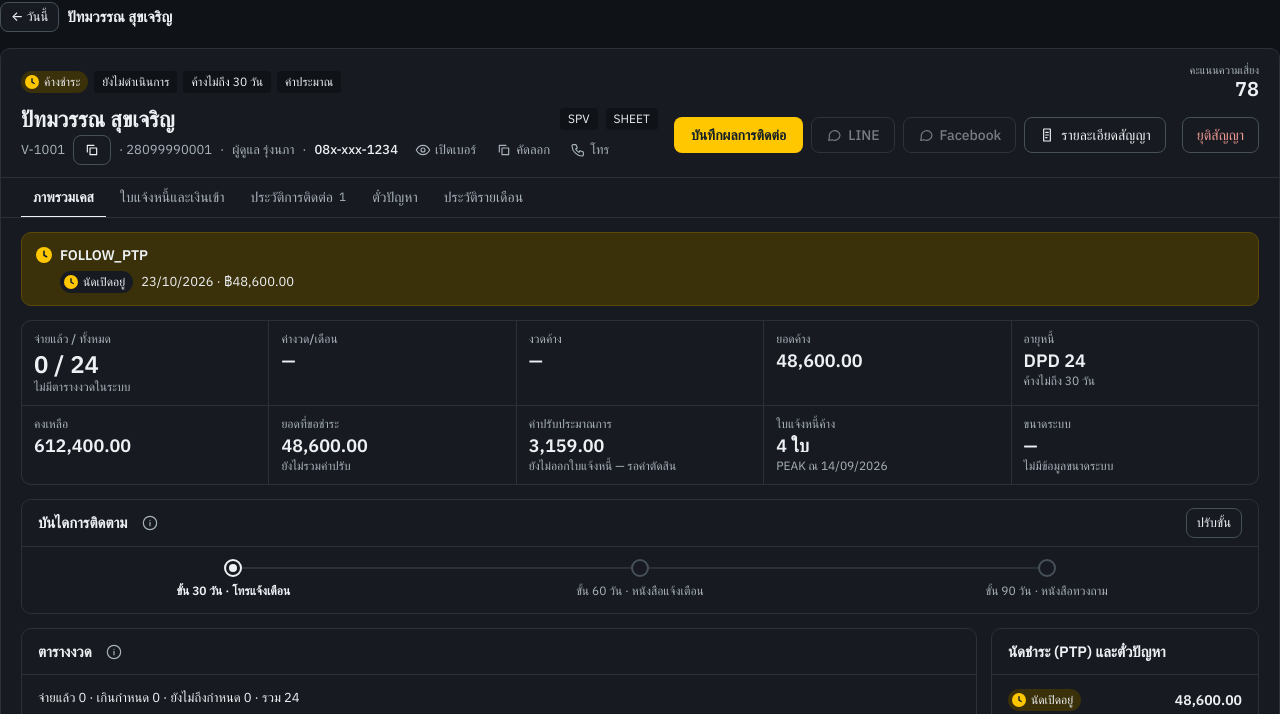
Test: the ladder stage control (F05, Q1) › opens the move drawer for a manager, with the current stage disabled
Click the button "ปรับขั้น" at [1214, 523], box [1186, 508, 1242, 538]
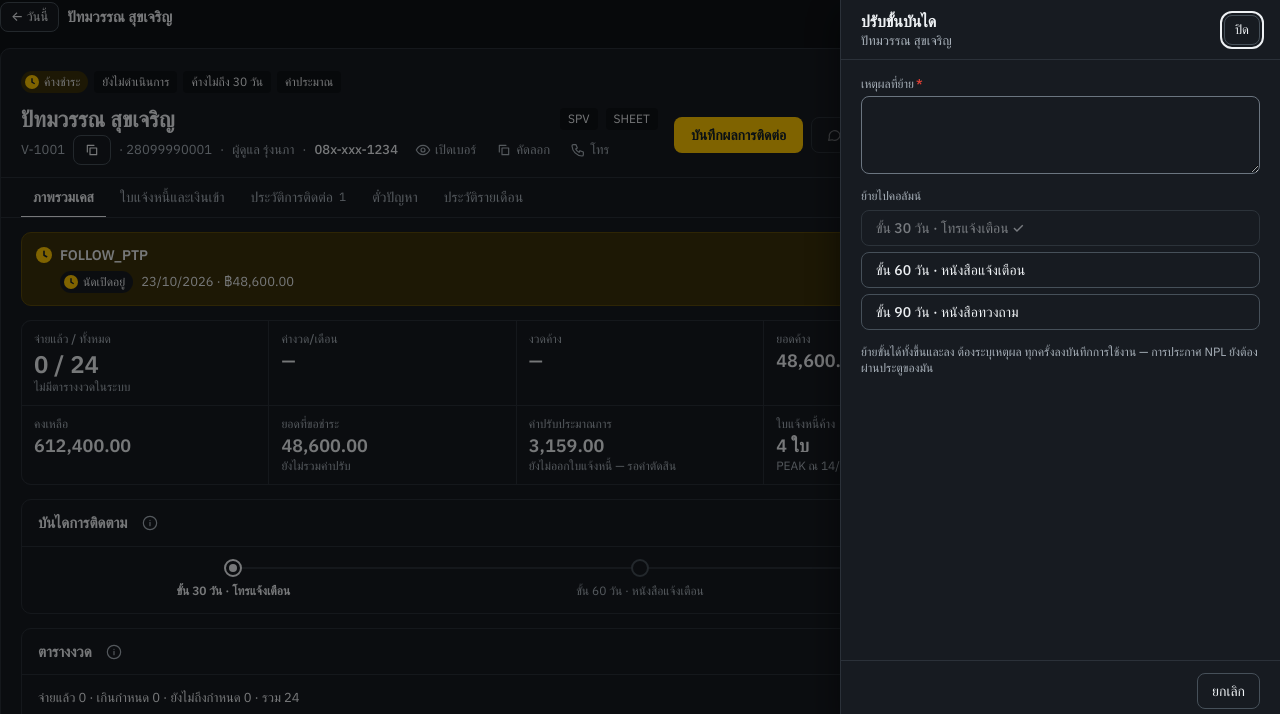
Check: the button "ขั้น 30 วัน · โทรแจ้งเตือน ✓" is disabled, box [861, 210, 1260, 246]
Check: the button "ขั้น 90 วัน · หนังสือทวงถาม" is enabled, box [861, 294, 1260, 330]
